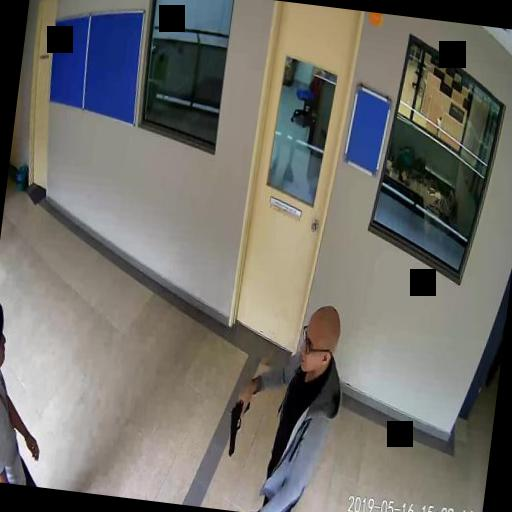Handgun: (225, 387, 251, 455)
